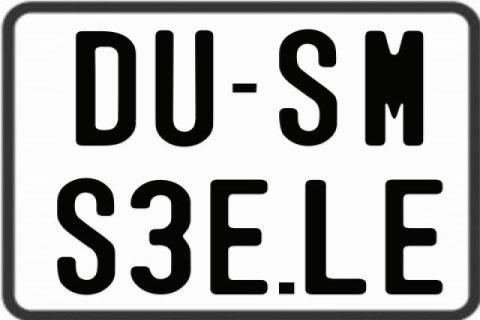0: (130, 180, 190, 297)
D: (75, 29, 141, 143)
E: (208, 177, 272, 295), (384, 178, 447, 296)
L: (304, 179, 368, 296)
M: (364, 31, 424, 149)
S: (54, 177, 114, 297), (277, 29, 335, 149)
U: (155, 30, 214, 146)
